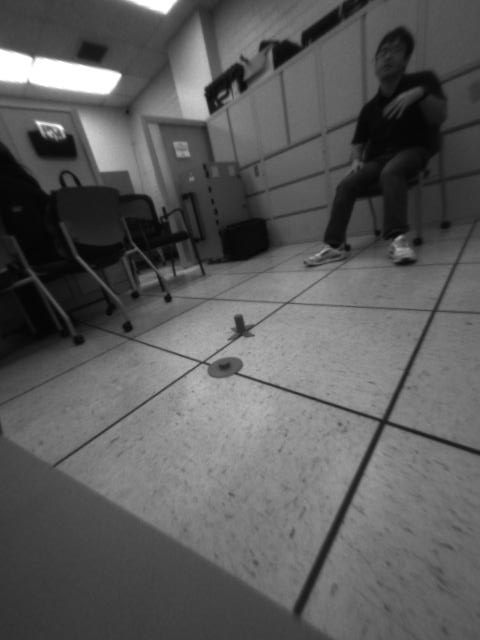X: (227, 312, 256, 344)
